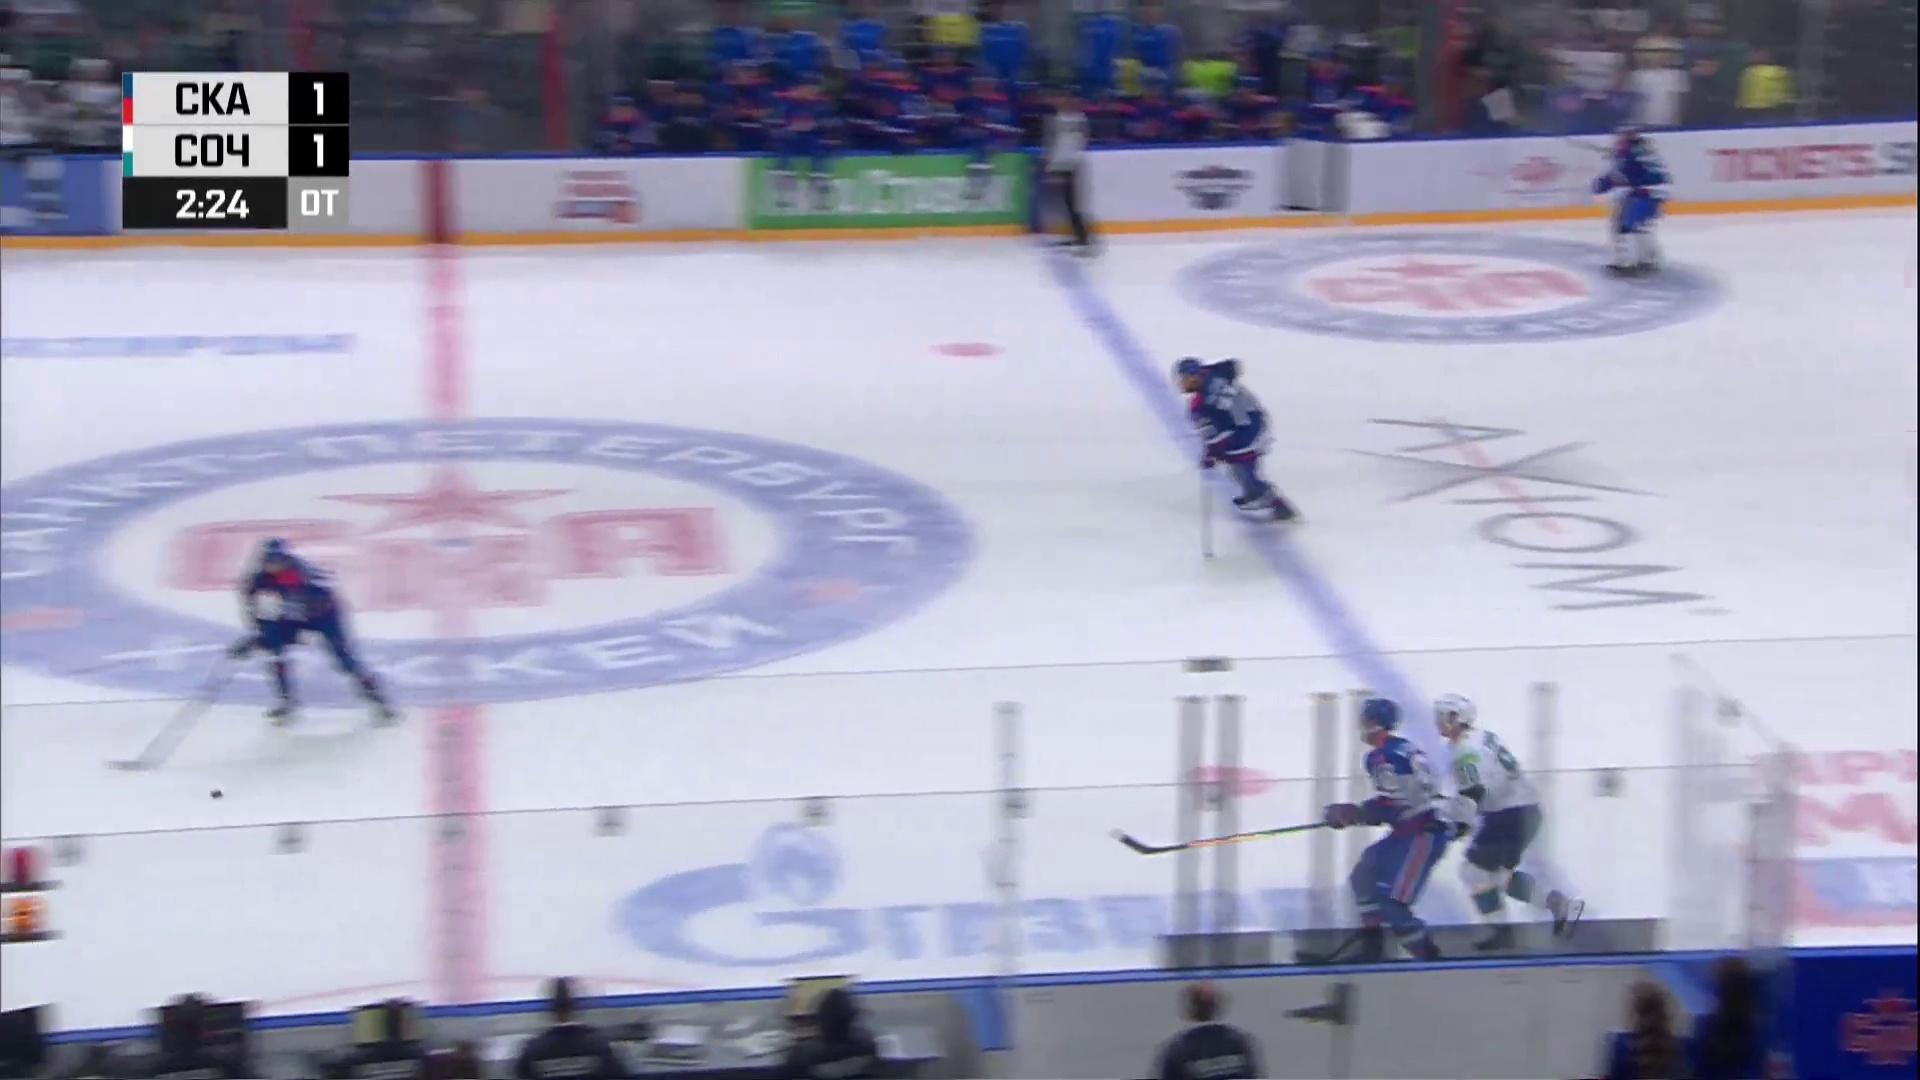ball: (208, 789, 225, 801)
